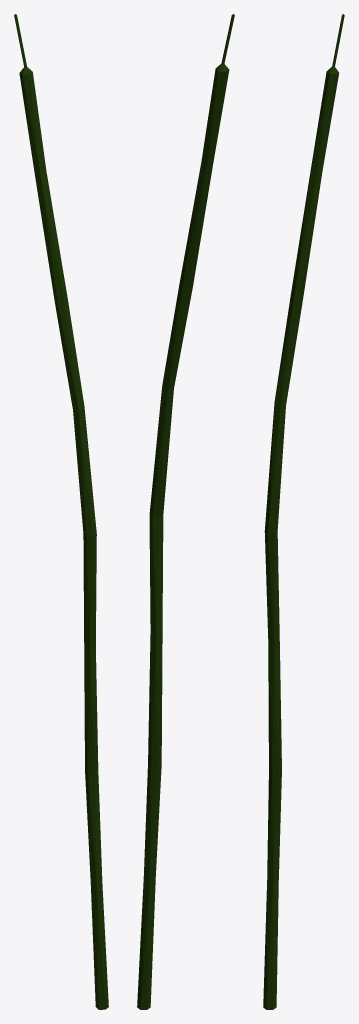
File: Ferntest.fbx
3 views of the same model, side by side, from view 1: azimuth 30°, elevation 25°; view 2: azimuth 210°, elevation 25°; view 3: azimuth 270°, elevation 25° (orthographic). The views are drawn at different scales.
Parts seen in each view (by area): view 1: Cylinder; view 2: Cylinder; view 3: Cylinder.
Part boxes in pixels (left/top/right/bottom): Cylinder: left=14, top=14, right=108, bottom=1009; Cylinder: left=137, top=14, right=234, bottom=1009; Cylinder: left=263, top=14, right=344, bottom=1009.
Bounding box in the file's own units: 18.95 × 318 × 24.24.
